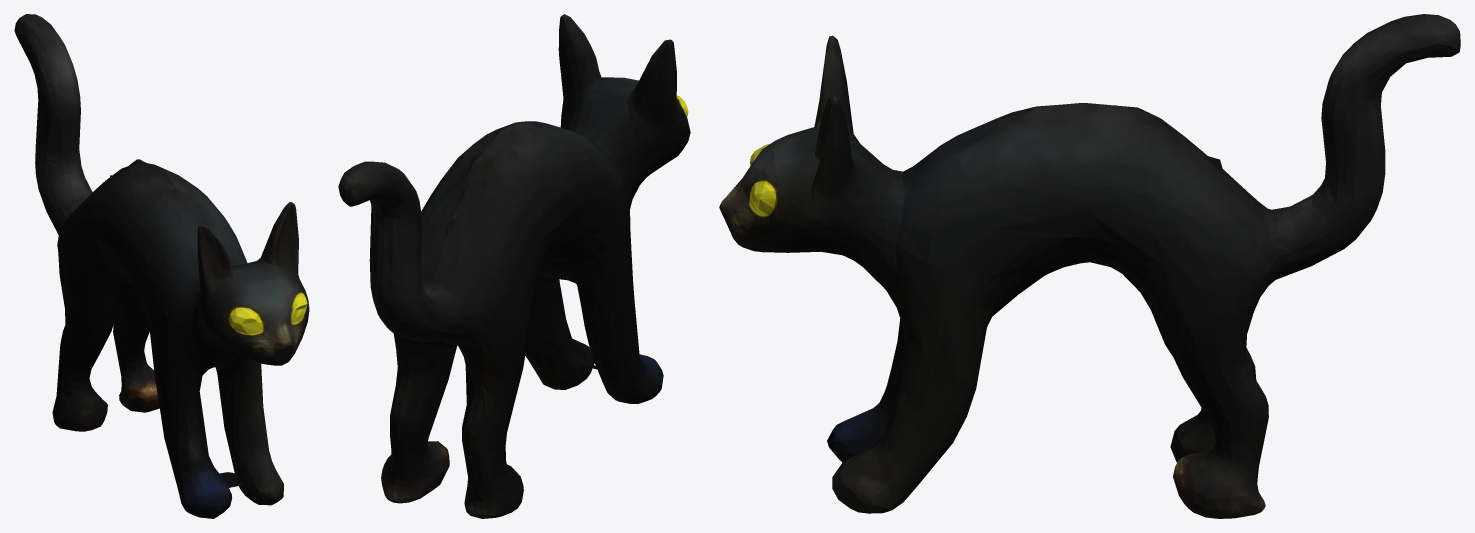
The model's file is cat_black_halloween.glb.
3 views of the same model, side by side, from view 1: azimuth 30°, elevation 25°; view 2: azimuth 150°, elevation 25°; view 3: azimuth 270°, elevation 25° (orthographic). The views are drawn at different scales.
Parts seen in each view (by area): view 1: geometry_0; view 2: geometry_0; view 3: geometry_0.
Boxes of the visible parts, x1,y1,x2,y2 form: geometry_0: (14, 14, 309, 518); geometry_0: (338, 14, 690, 518); geometry_0: (719, 14, 1460, 518).
Size of the model in its own units: 0.2389 by 0.7058 by 0.9996.
1 material, 1 textured.
